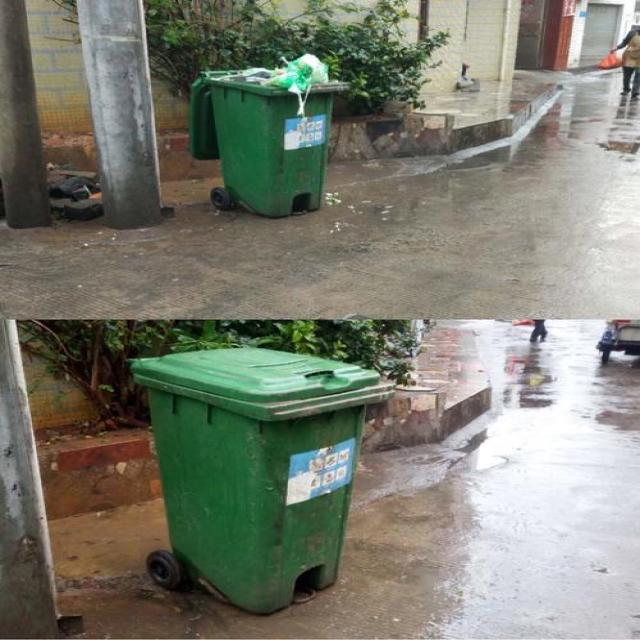garbage_bin: (130, 347, 390, 613)
overflow: (192, 52, 348, 217)
